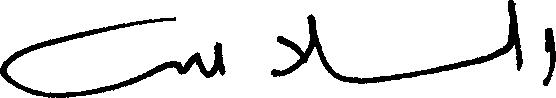X: (0, 12, 221, 97), (273, 9, 314, 81), (545, 23, 555, 90), (508, 0, 515, 56)
